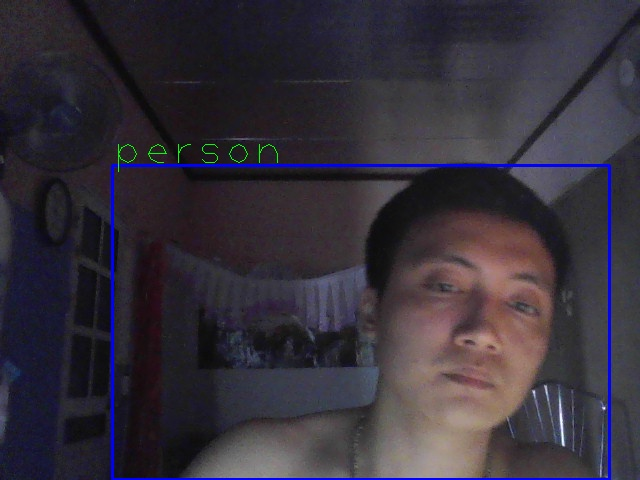person: (112, 165, 610, 480)
